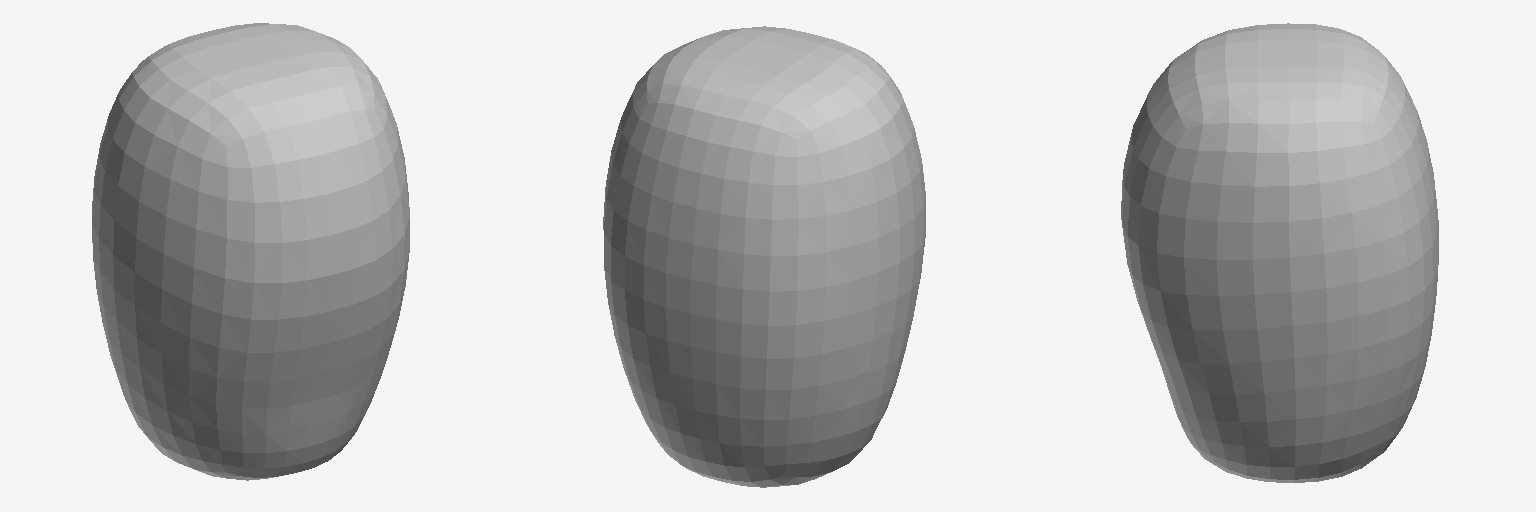
File: head.obj
3 renders of one model, left to right at view 1: azimuth 30°, elevation 25°; view 2: azimuth 150°, elevation 25°; view 3: azimuth 270°, elevation 25°, orthographic.
Visible parts, largest first — view 1: pCube2; view 2: pCube2; view 3: pCube2.
Boxes of the visible parts, x1,y1,x2,y2 form: pCube2: [92, 23, 409, 480]; pCube2: [603, 26, 925, 487]; pCube2: [1121, 23, 1438, 482].
Size of the model in its own units: 1 by 1.41 by 1.01.